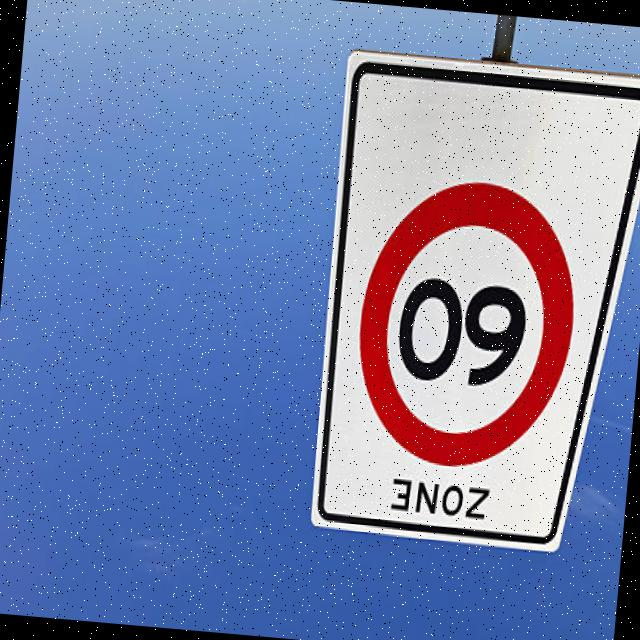speed_limit_60: (345, 171, 586, 480)
